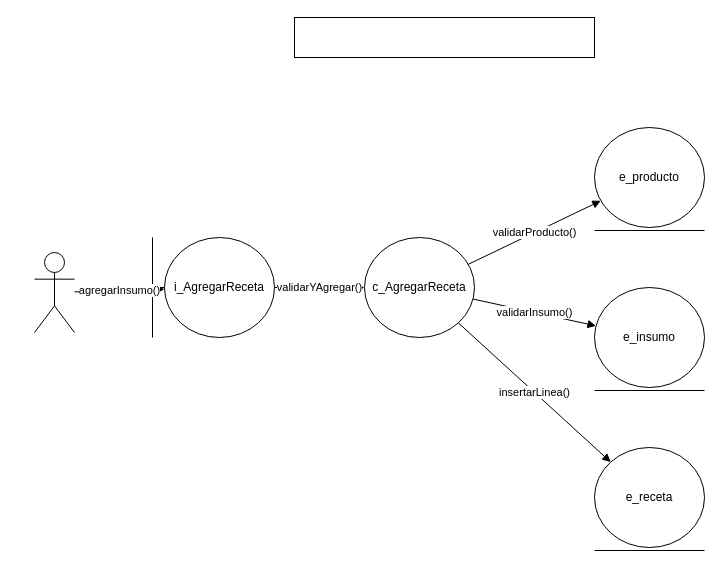
Some shapes in this 723 by 569 pixel diagram are drawn without their labels. The shapes that lost their labels are listed below. From the top down, each one's box as (x1, y1, x2, y2) in pixels, then its label:
(294, 16, 594, 58): Agregar Recetas CU-07
(34, 252, 74, 332): Administrador
